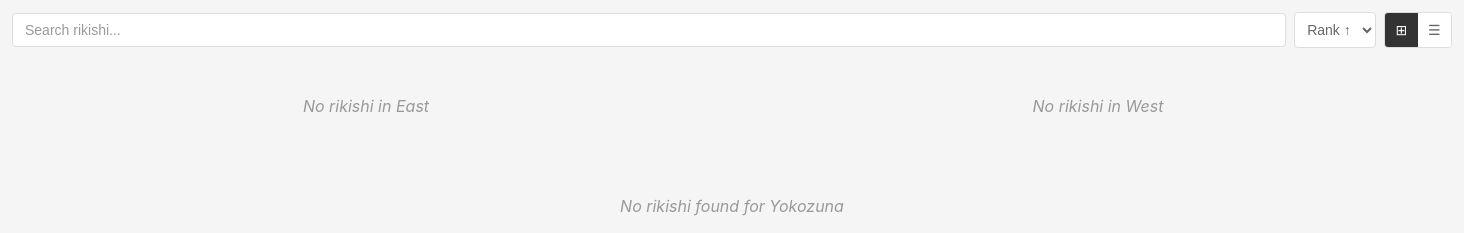
Scenario: BanzukeTab › does not show the card-view empty message in grid view (grid has its own)
The image size is (1464, 233).
Click the button named "Grid view".
click(1434, 30)  # box [1418,13,1451,47]
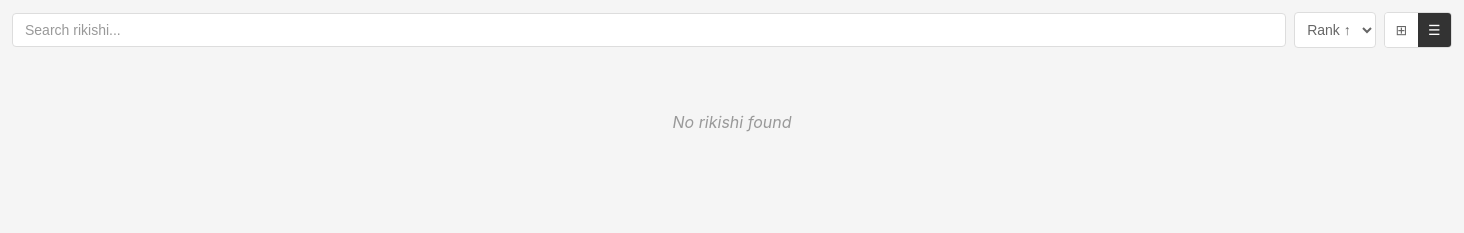
Expected: the text "No rikishi found for Yokozuna" is gone
